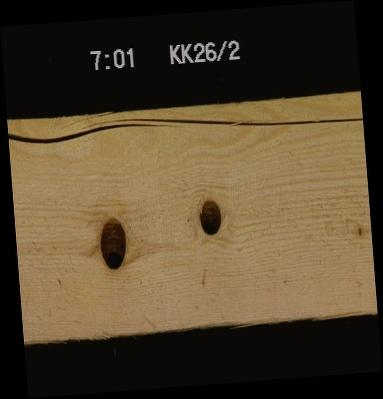split: (8, 109, 362, 137)
wave: (199, 303, 377, 328)
